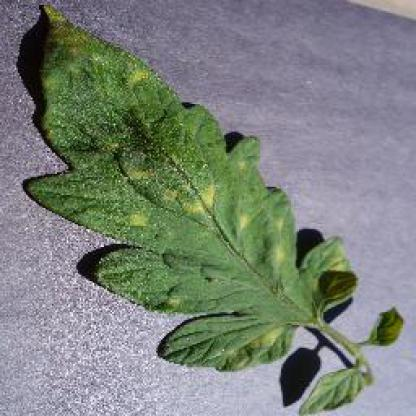bad leaf: (251, 208, 366, 326), (217, 325, 361, 404), (35, 7, 157, 91), (140, 168, 236, 236), (375, 312, 405, 348)
